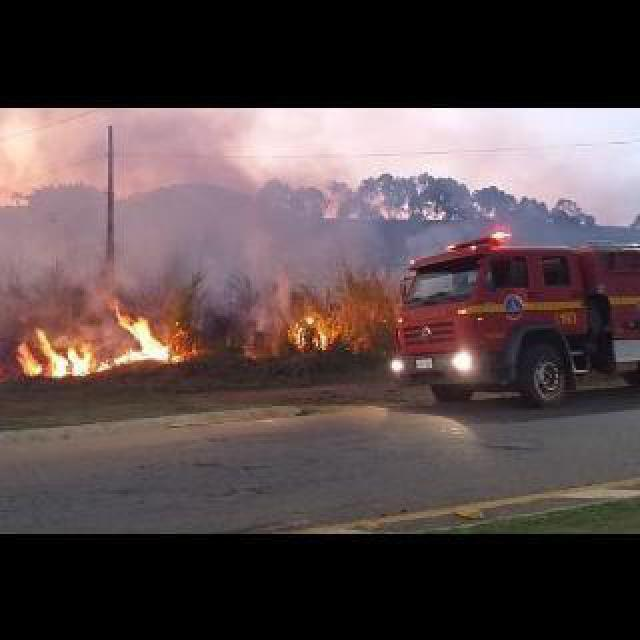fire: (19, 319, 175, 369), (300, 318, 332, 350)
light: (453, 350, 476, 379), (489, 224, 513, 248), (389, 353, 406, 379)
smoke: (13, 112, 402, 278)
